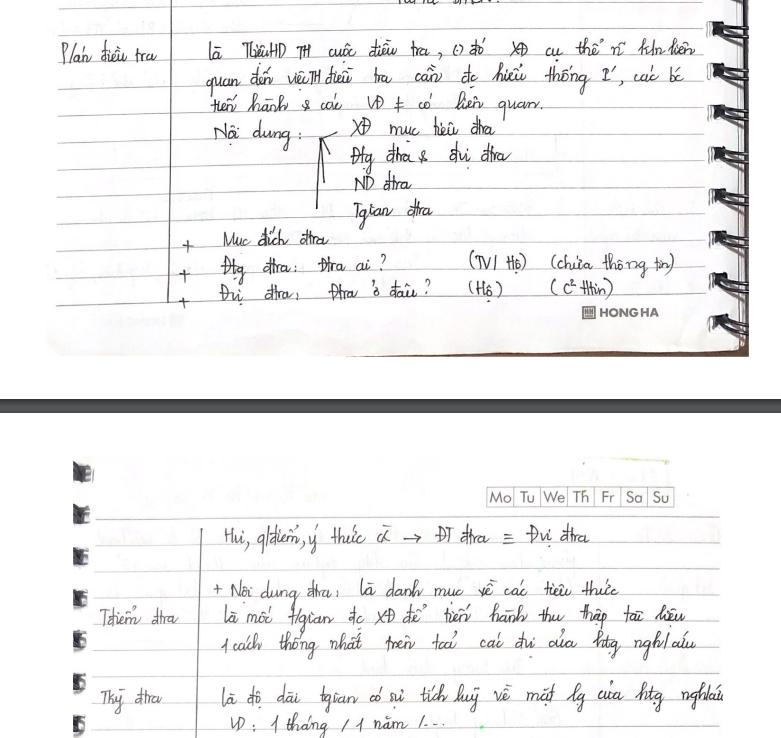text: (218, 678, 727, 717), (203, 62, 686, 99), (217, 629, 700, 664), (212, 574, 621, 612), (221, 602, 688, 634), (206, 36, 698, 66), (220, 520, 591, 558), (209, 89, 543, 123), (216, 274, 431, 310), (468, 248, 677, 280), (227, 708, 448, 738), (346, 138, 514, 177), (219, 250, 388, 286), (346, 112, 498, 144), (487, 486, 672, 507), (57, 37, 160, 69), (211, 117, 296, 154), (351, 196, 436, 232), (219, 224, 331, 251), (97, 602, 181, 628), (98, 686, 163, 716), (546, 276, 616, 301), (351, 168, 413, 196), (467, 277, 504, 307), (596, 304, 660, 320)
